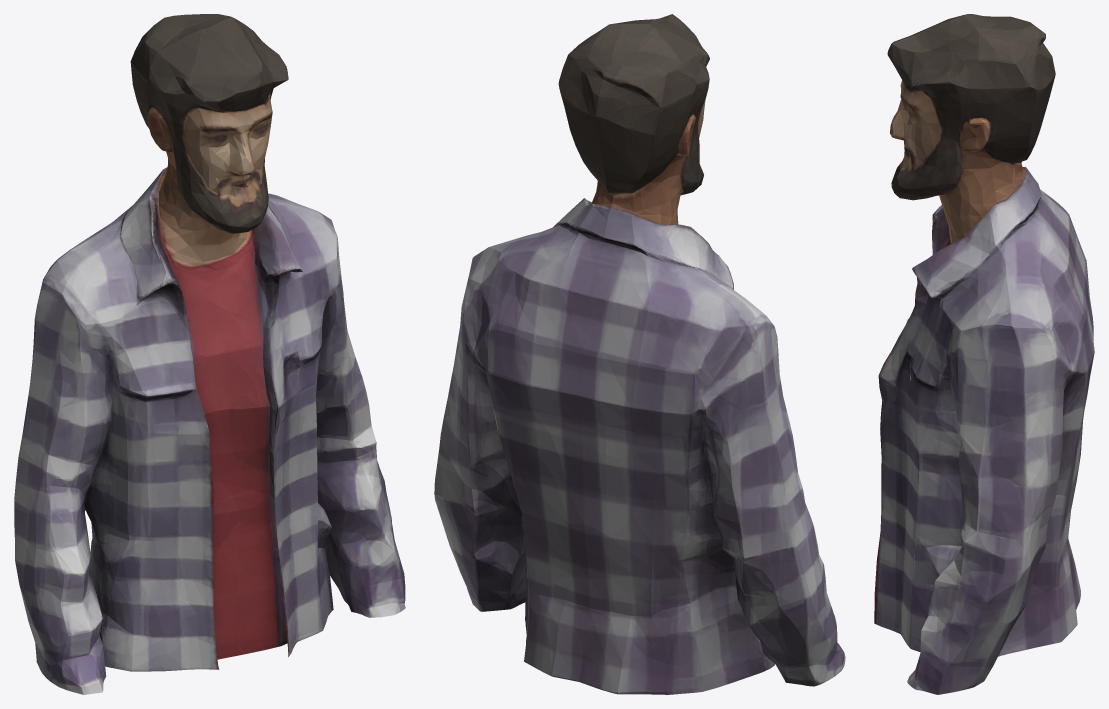
The picture shows the model from 3 angles, left to right: view 1: azimuth 30°, elevation 25°; view 2: azimuth 150°, elevation 25°; view 3: azimuth 270°, elevation 25°; orthographic projection. The views are drawn at different scales.
Parts seen in each view (by area): view 1: geometry_0; view 2: geometry_0; view 3: geometry_0.
Boxes of the visible parts, <box> form: geometry_0: <box>14,14,405,694</box>; geometry_0: <box>434,14,845,694</box>; geometry_0: <box>874,14,1094,694</box>.
Bounding box in the file's own units: 0.5218 × 0.8284 × 0.2796.
1 material, 1 textured.
